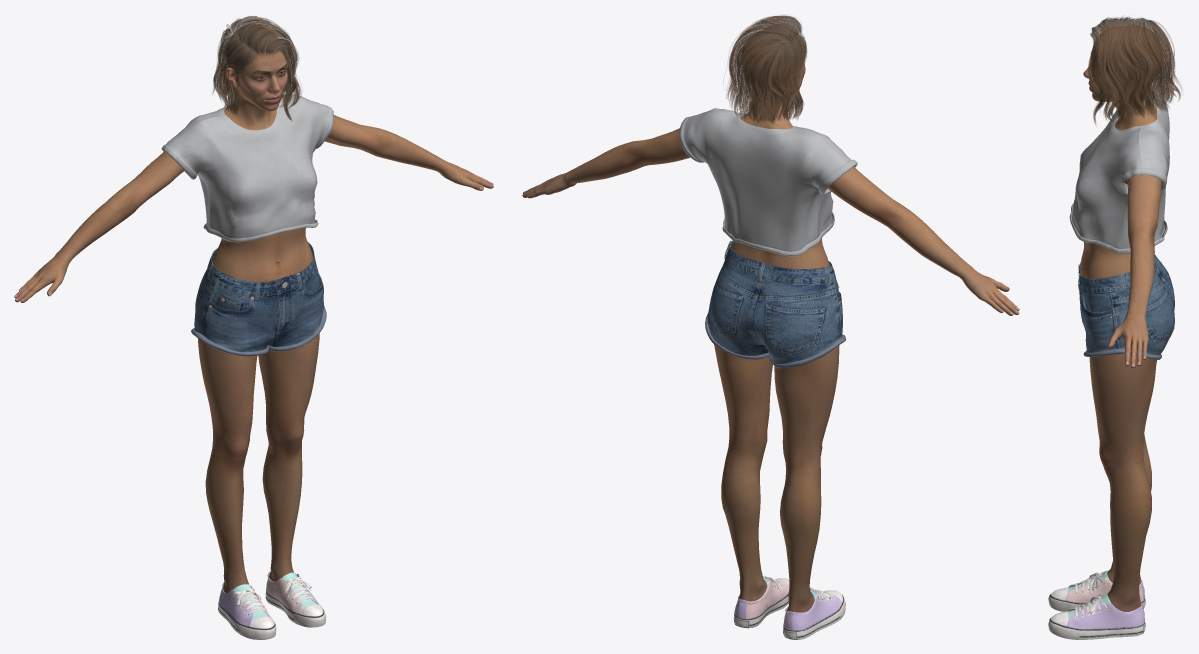
Rendered from body-female.glb.
3 views of the same model, side by side, from view 1: azimuth 30°, elevation 25°; view 2: azimuth 150°, elevation 25°; view 3: azimuth 270°, elevation 25° (orthographic). The views are drawn at different scales.
Visible parts, largest first — view 1: Body; view 2: Body; view 3: Body.
Boxes of the visible parts, left/top/right/bottom form: Body: left=14, top=16, right=493, bottom=639; Body: left=522, top=15, right=1019, bottom=639; Body: left=1048, top=16, right=1181, bottom=639.
Size of the model in its own units: 1.43 by 1.68 by 0.3456.
24 materials, 24 textured.
